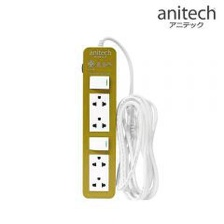three_eye_plug: (76, 42, 119, 203)
